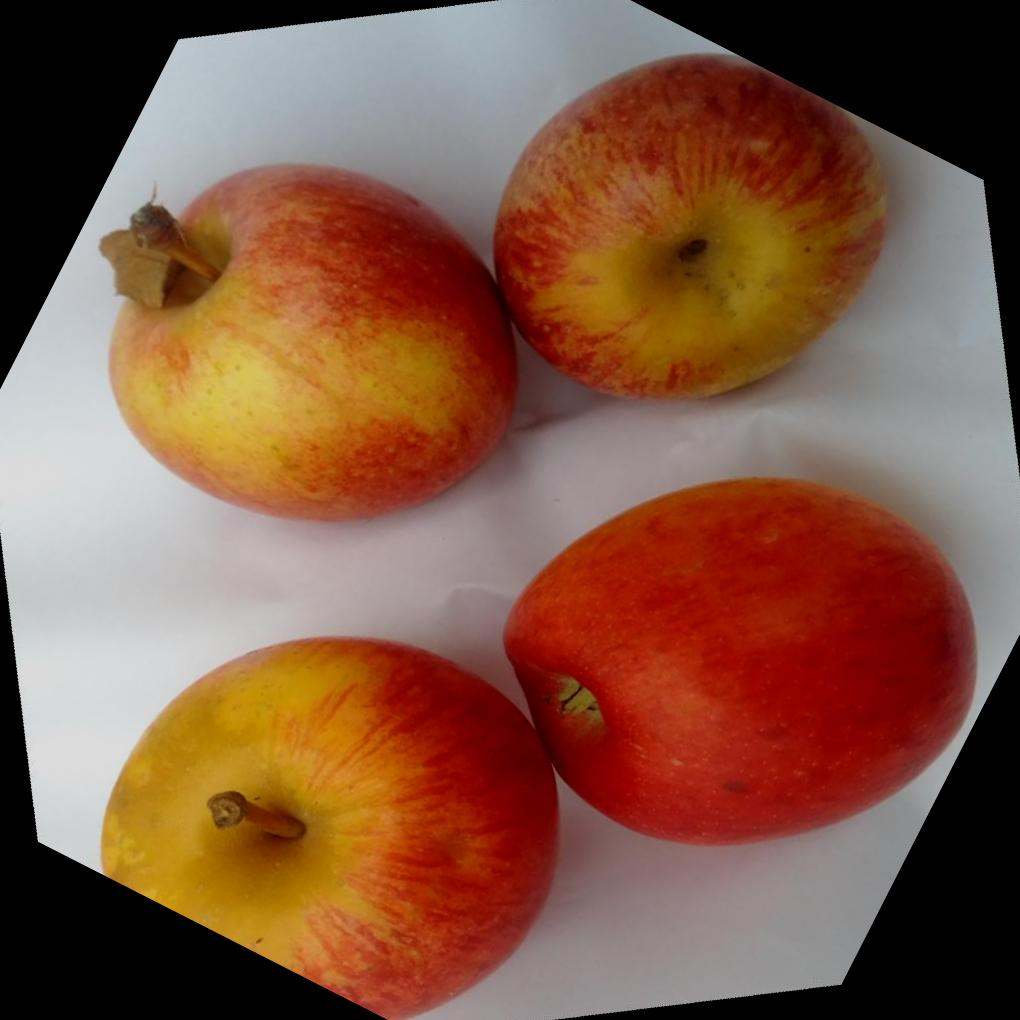FreshGuava: (101, 476, 978, 1020), (100, 53, 892, 523)
